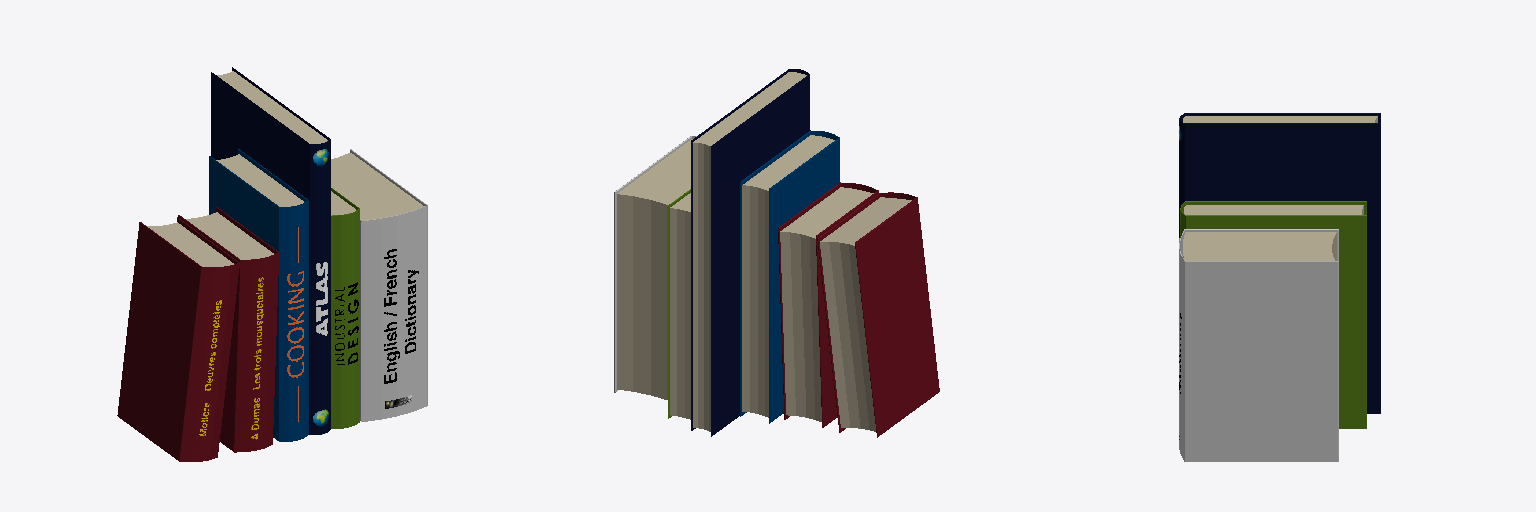
3 views of the same model, side by side, from view 1: azimuth 30°, elevation 25°; view 2: azimuth 150°, elevation 25°; view 3: azimuth 270°, elevation 25° (orthographic).
Parts seen in each view (by area): view 1: face_avant_5, tranche_4, tranche_5, tranche, face_avant_2, tranche_1, tranche_3, tranche_2, titles_tranche_4.001, face_avant_1, pages_4, face_avant (+6 smaller); view 2: face_avant_5, face_avant_2, pages_4, pages, pages_5, pages_1, pages_2, face_avant_1, pages_3, face_avant, face_arriere_2, face_arriere_4 (+3 smaller); view 3: face_arriere_4, face_arriere_2, face_arriere_3, pages_4, pages_3, pages_2, tranche_4, face_avant_3, face_avant_2.
Boxes of the visible parts, x1,y1,x2,y2 form: face_avant_5: [117, 222, 201, 461]; tranche_4: [361, 206, 426, 421]; tranche_5: [180, 263, 239, 461]; tranche: [235, 252, 278, 452]; face_avant_2: [211, 72, 309, 434]; tranche_1: [279, 201, 307, 441]; tranche_3: [331, 209, 359, 428]; tranche_2: [310, 139, 329, 434]; titles_tranche_4.001: [199, 149, 418, 439]; face_avant_1: [209, 156, 278, 440]; pages_4: [331, 153, 423, 220]; face_avant: [178, 215, 240, 452]; face_avant_5: [855, 197, 939, 437]; face_avant_2: [711, 74, 809, 436]; pages_4: [617, 139, 692, 399]; pages: [780, 187, 873, 421]; pages_5: [820, 197, 911, 431]; pages_1: [742, 135, 834, 417]; pages_2: [693, 72, 806, 431]; face_avant_1: [769, 137, 839, 423]; pages_3: [670, 193, 690, 419]; face_avant: [816, 190, 878, 427]; face_arriere_2: [691, 69, 788, 430]; face_arriere_4: [614, 136, 691, 392]; face_arriere_4: [1185, 261, 1338, 461]; face_arriere_2: [1184, 123, 1380, 413]; face_arriere_3: [1185, 215, 1366, 428]; pages_4: [1183, 232, 1336, 260]; pages_3: [1184, 205, 1363, 214]; pages_2: [1183, 116, 1377, 122]; tranche_4: [1179, 229, 1184, 461]; face_avant_3: [1185, 201, 1366, 214]; face_avant_2: [1184, 113, 1380, 122].
Bounding box in the file's own units: 0.8902 × 1 × 0.6266.
Materials: 8 (1 with a texture image).